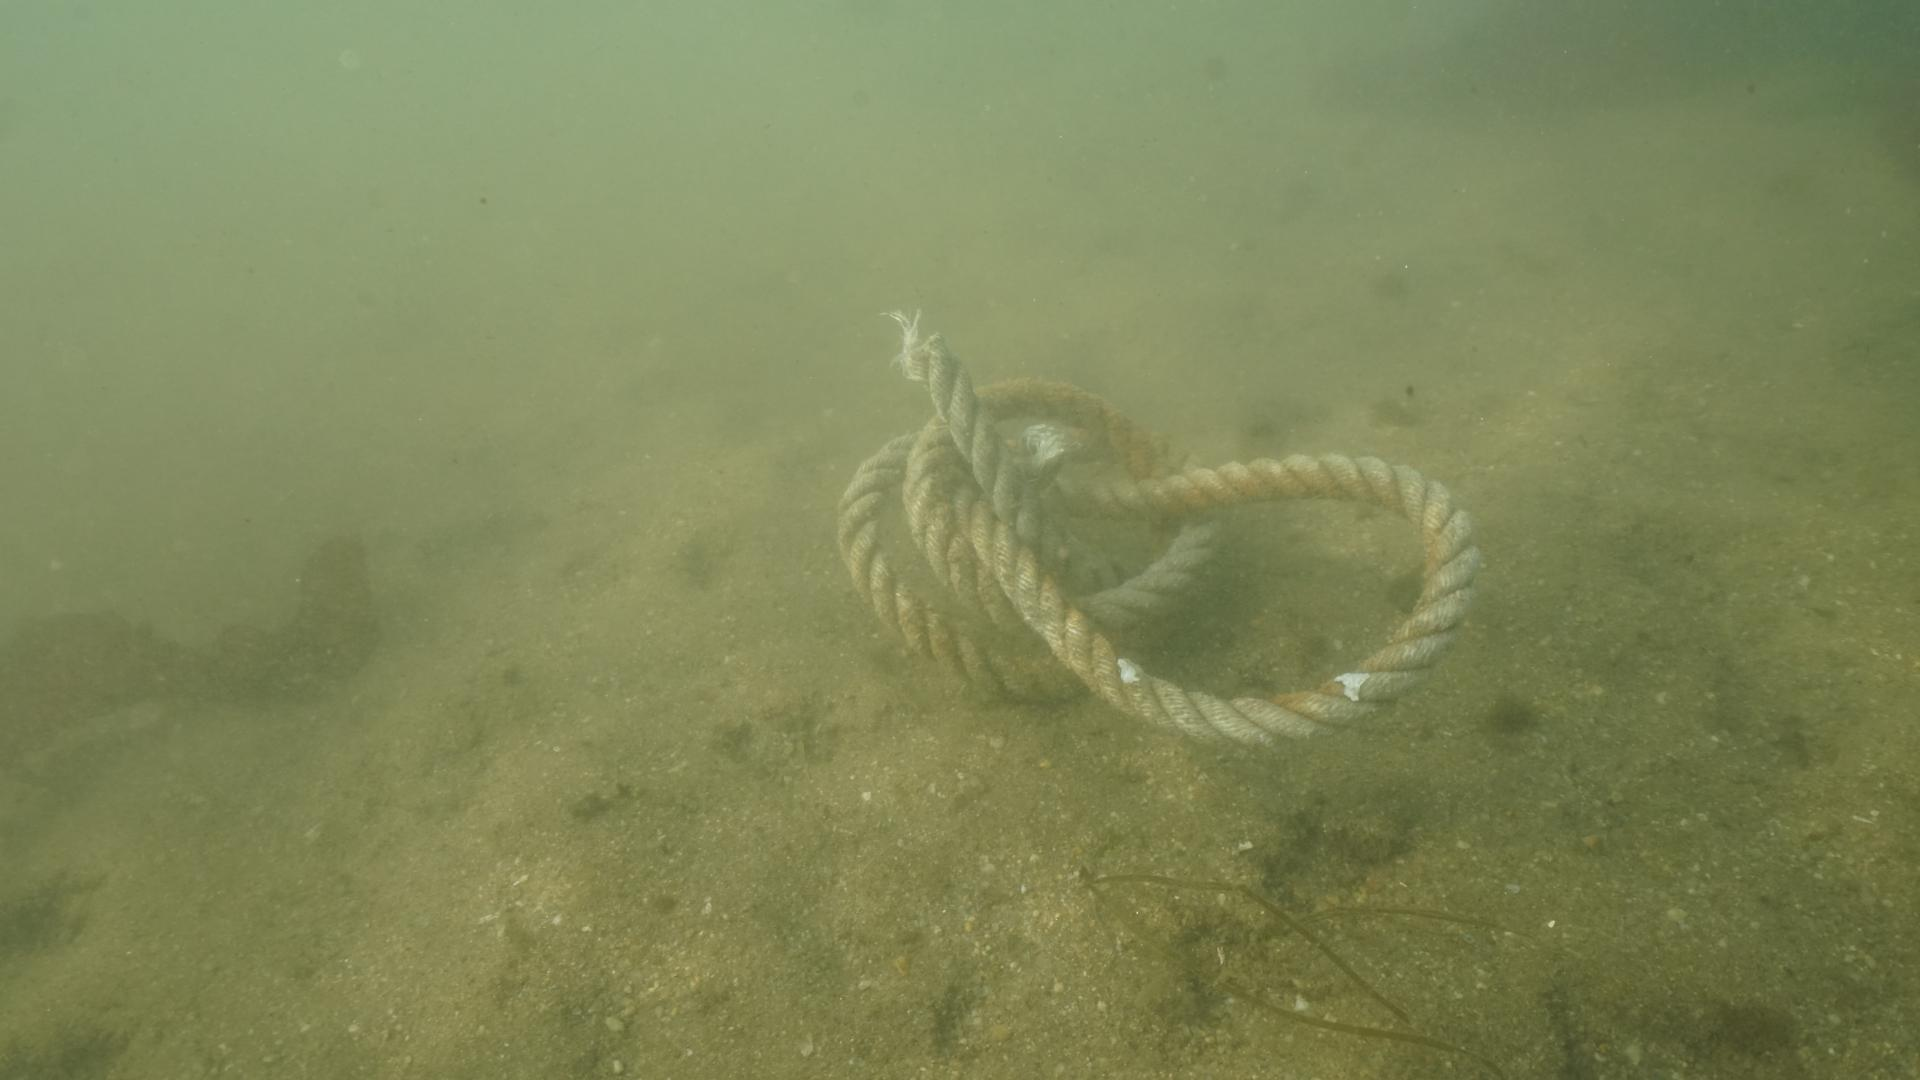bundle of ropes: (829, 344, 1486, 756)
